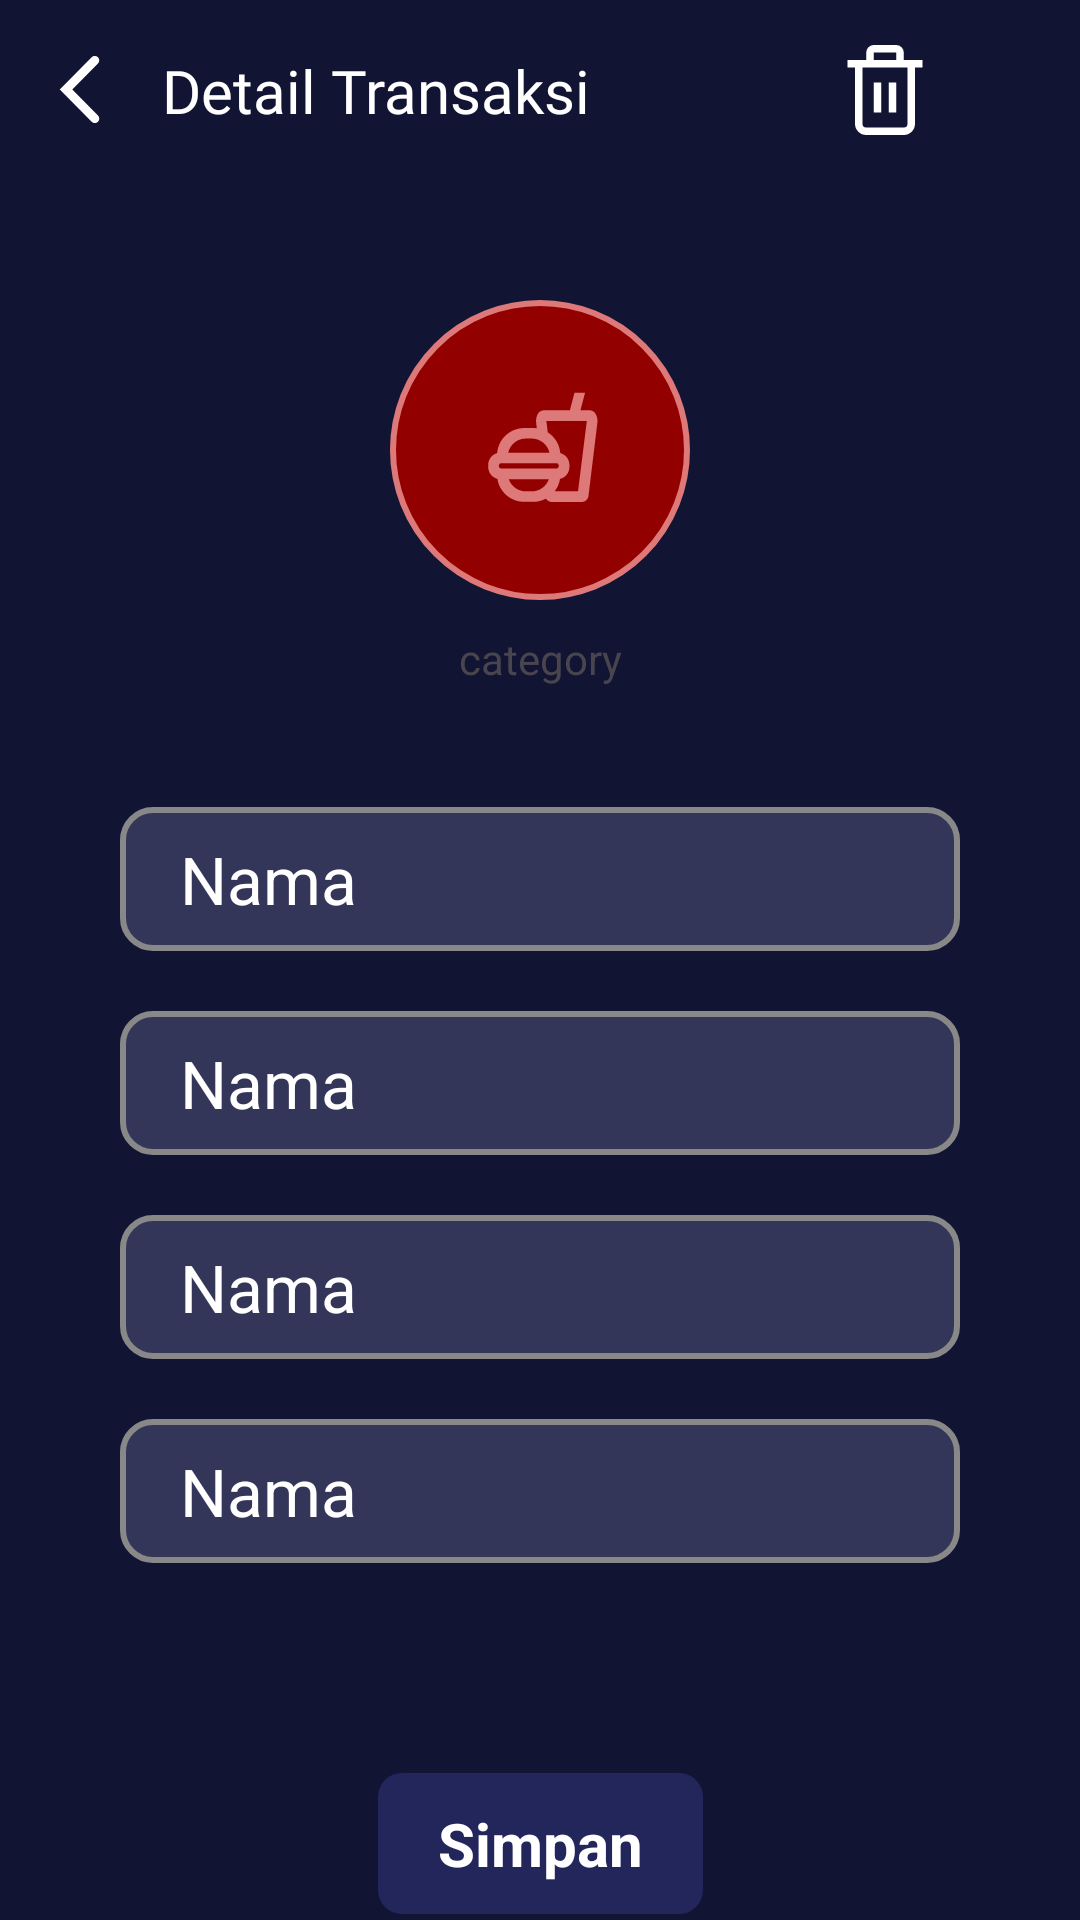

Icons on this 1080px×1920px Android screen, each with the point to tap as (x=x, y=y):
Back: (x=80, y=89)
delete button: (x=885, y=90)
